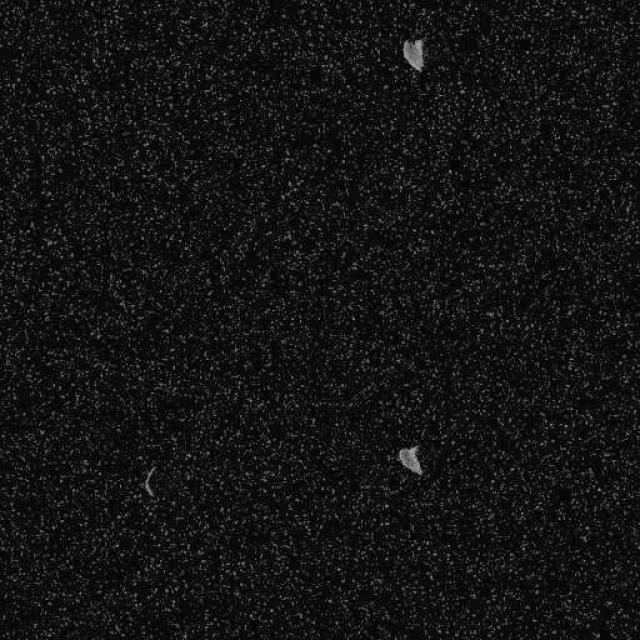D2: (401, 36, 425, 72), (397, 444, 422, 476), (142, 465, 158, 499)
